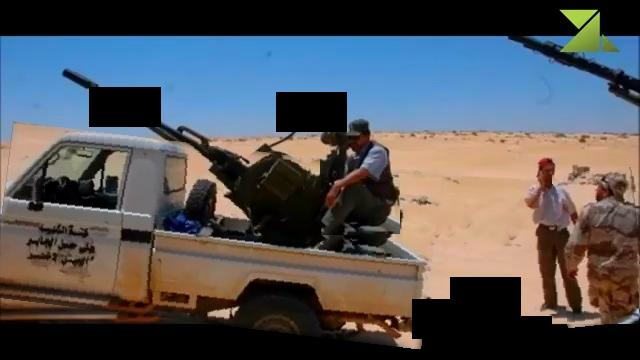MIL_HMMWV: (0, 134, 437, 336), (556, 168, 640, 326), (523, 156, 585, 314), (320, 119, 400, 235)
